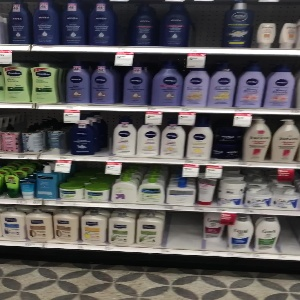void: (164, 209, 205, 253), (279, 212, 300, 257)
